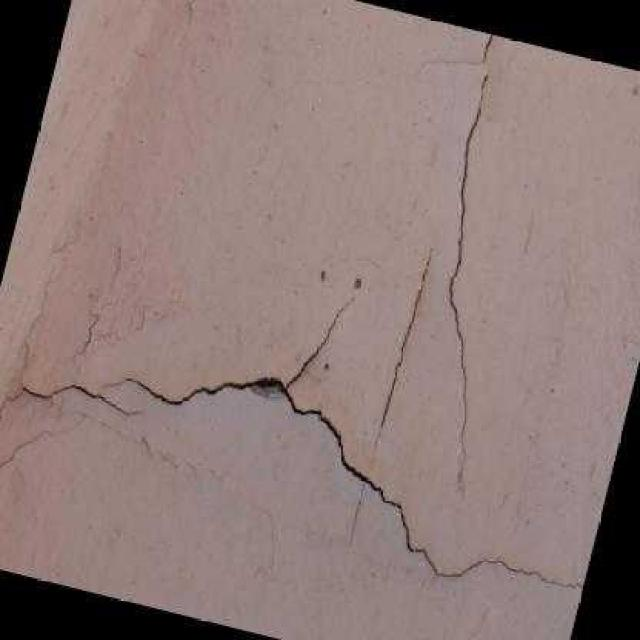D00: (0, 257, 585, 598), (444, 63, 492, 486), (366, 246, 435, 457), (65, 297, 101, 358), (477, 31, 495, 69)
